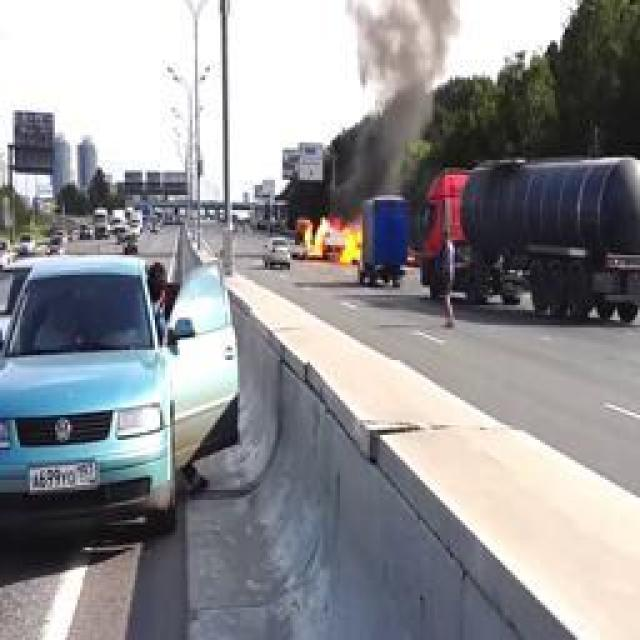Fire: (302, 215, 362, 268)
